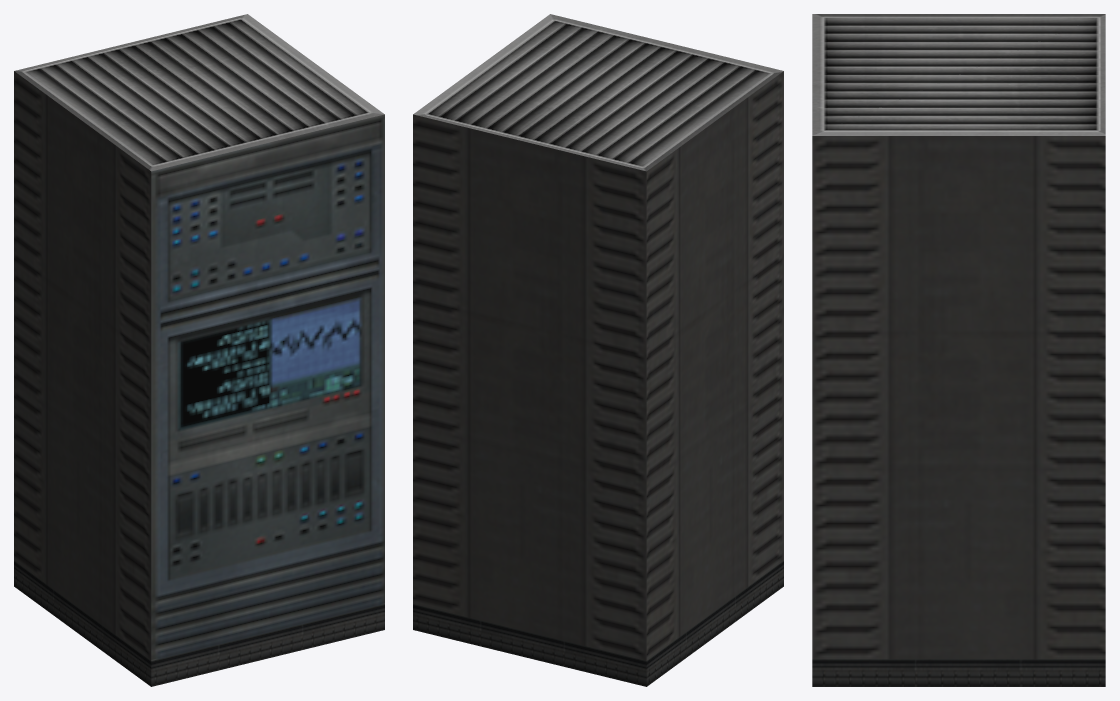
Rendered from armario-interno-2.fbx.
3 views of the same model, side by side, from view 1: azimuth 30°, elevation 25°; view 2: azimuth 150°, elevation 25°; view 3: azimuth 270°, elevation 25° (orthographic). The views are drawn at different scales.
Visible parts, largest first — view 1: Cylinder; view 2: Cylinder; view 3: Cylinder.
Part boxes in pixels (x1=…): Cylinder: x1=14, y1=14, x2=384, y2=686; Cylinder: x1=413, y1=14, x2=783, y2=686; Cylinder: x1=812, y1=14, x2=1105, y2=686.
Bounding box in the file's own units: 0.975 × 2.06 × 0.992.
